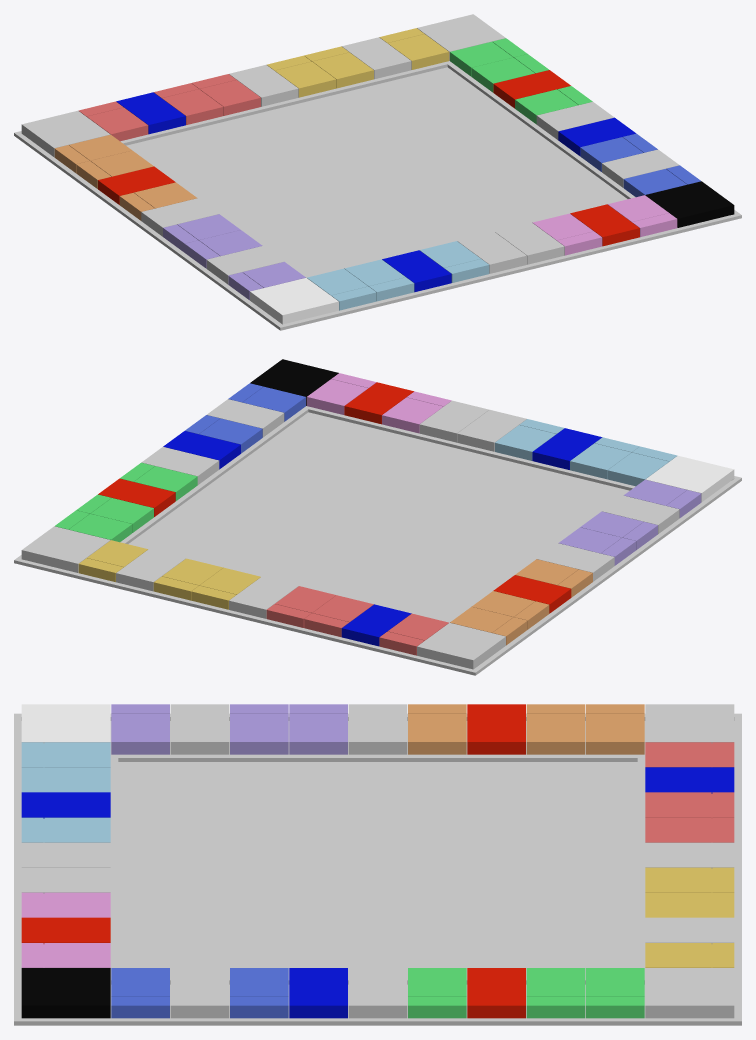
File: board.fbx
3 renders of one model, top to bottom at view 1: azimuth 30°, elevation 25°; view 2: azimuth 150°, elevation 25°; view 3: azimuth 270°, elevation 25°, orthographic. The views are drawn at different scales.
Parts seen in each view (by area): view 1: Plane, Plane.011, Plane.001, Plane.021, Plane.031, Plane.004, Plane.027, Plane.007, Plane.009, Plane.030, Plane.010, Plane.006 (+29 smaller); view 2: Plane, Plane.021, Plane.031, Plane.011, Plane.001, Plane.028, Plane.005, Plane.002, Plane.023, Plane.025, Plane.022, Plane.003 (+29 smaller); view 3: Plane, Plane.001, Plane.031, Plane.011, Plane.021, Plane.013, Plane.016, Plane.019, Plane.033, Plane.036, Plane.039, Plane.012 (+29 smaller).
Boxes of the visible parts, x1=… form: Plane: x1=14, y1=61, x2=741, y2=330; Plane.011: x1=250, y1=278, x2=338, y2=324; Plane.001: x1=645, y1=181, x2=734, y2=227; Plane.021: x1=21, y1=110, x2=110, y2=157; Plane.031: x1=417, y1=14, x2=505, y2=60; Plane.004: x1=532, y1=213, x2=602, y2=255; Plane.027: x1=267, y1=55, x2=336, y2=97; Plane.007: x1=419, y1=241, x2=489, y2=282; Plane.009: x1=344, y1=259, x2=414, y2=301; Plane.030: x1=379, y1=28, x2=449, y2=69; Plane.010: x1=307, y1=268, x2=376, y2=310; Plane.006: x1=457, y1=232, x2=526, y2=273; Plane: x1=14, y1=406, x2=741, y2=675; Plane.021: x1=417, y1=623, x2=505, y2=669; Plane.031: x1=21, y1=526, x2=110, y2=572; Plane.011: x1=645, y1=455, x2=734, y2=502; Plane.001: x1=250, y1=359, x2=338, y2=405; Plane.028: x1=153, y1=558, x2=223, y2=600; Plane.005: x1=419, y1=400, x2=488, y2=442; Plane.002: x1=306, y1=373, x2=376, y2=414; Plane.023: x1=341, y1=604, x2=411, y2=646; Plane.025: x1=266, y1=586, x2=336, y2=627; Plane.022: x1=379, y1=613, x2=448, y2=655; Plane.003: x1=344, y1=382, x2=413, y2=424; Plane: x1=14, y1=713, x2=741, y2=1025; Plane.001: x1=21, y1=968, x2=110, y2=1018; Plane.031: x1=645, y1=968, x2=734, y2=1018; Plane.011: x1=21, y1=704, x2=110, y2=743; Plane.021: x1=645, y1=704, x2=734, y2=743; Plane.013: x1=170, y1=704, x2=229, y2=754; Plane.016: x1=348, y1=704, x2=407, y2=754; Plane.019: x1=526, y1=704, x2=585, y2=754; Plane.033: x1=526, y1=968, x2=585, y2=1018; Plane.036: x1=348, y1=968, x2=407, y2=1018; Plane.039: x1=170, y1=968, x2=229, y2=1018; Plane.012: x1=111, y1=704, x2=169, y2=754.
Bounding box in the file's own units: 1600 × 40.63 × 1600.
